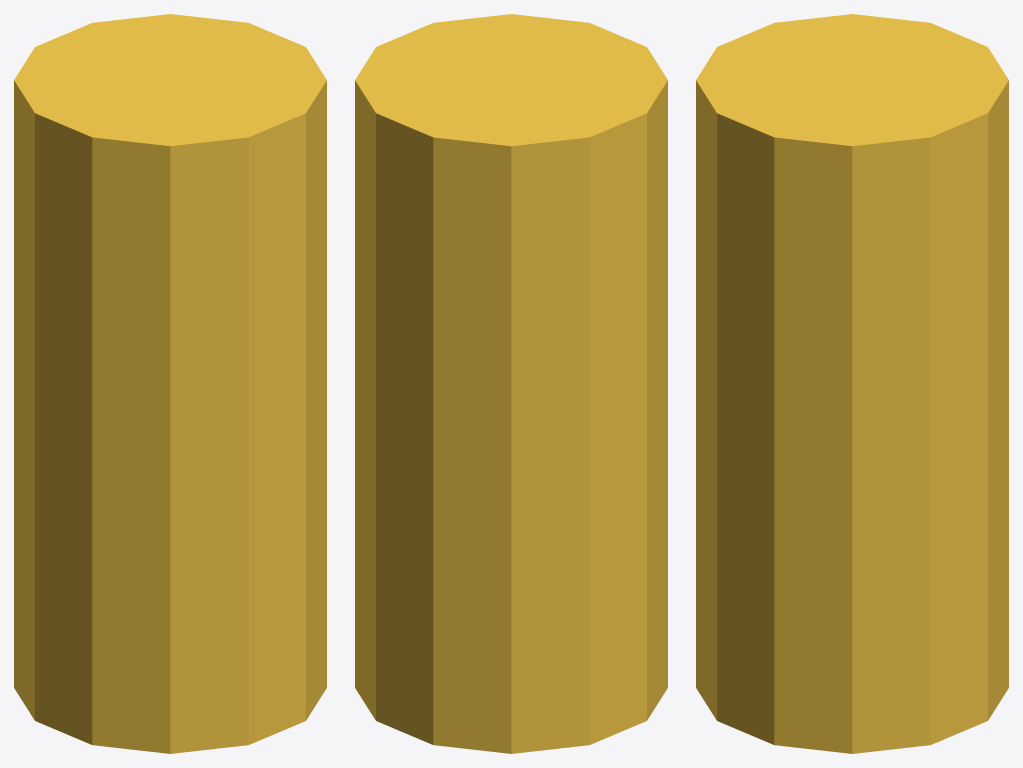
Rendered from Boxing_Rope.fbx.
3 views of the same model, side by side, from view 1: azimuth 30°, elevation 25°; view 2: azimuth 150°, elevation 25°; view 3: azimuth 270°, elevation 25° (orthographic).
Parts seen in each view (by area): view 1: Rope; view 2: Rope; view 3: Rope.
Boxes of the visible parts, box(x1,y1,x2,y2) form: Rope: box(14, 14, 326, 753); Rope: box(355, 14, 667, 753); Rope: box(696, 14, 1008, 753).
Bounding box in the file's own units: 0.28 × 0.6 × 0.28.
